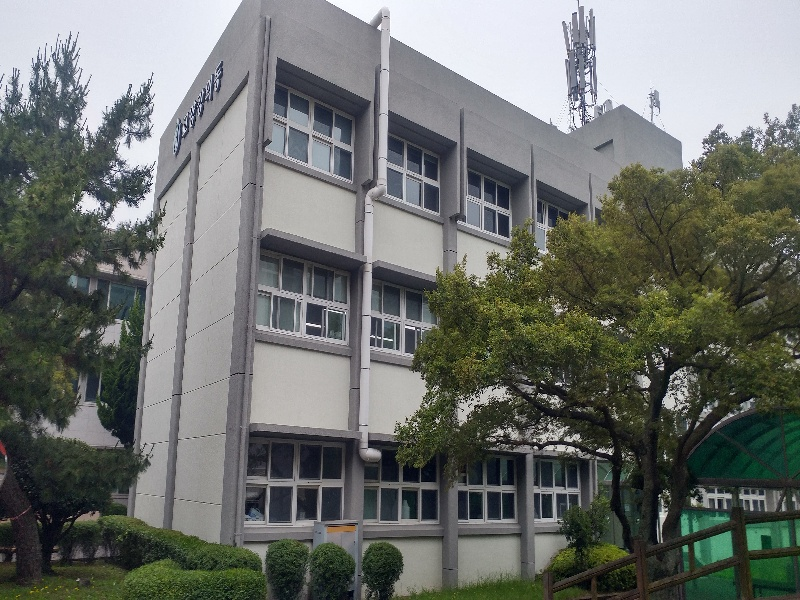Cultural lecture hall: (146, 17, 718, 522), (161, 13, 583, 530)
